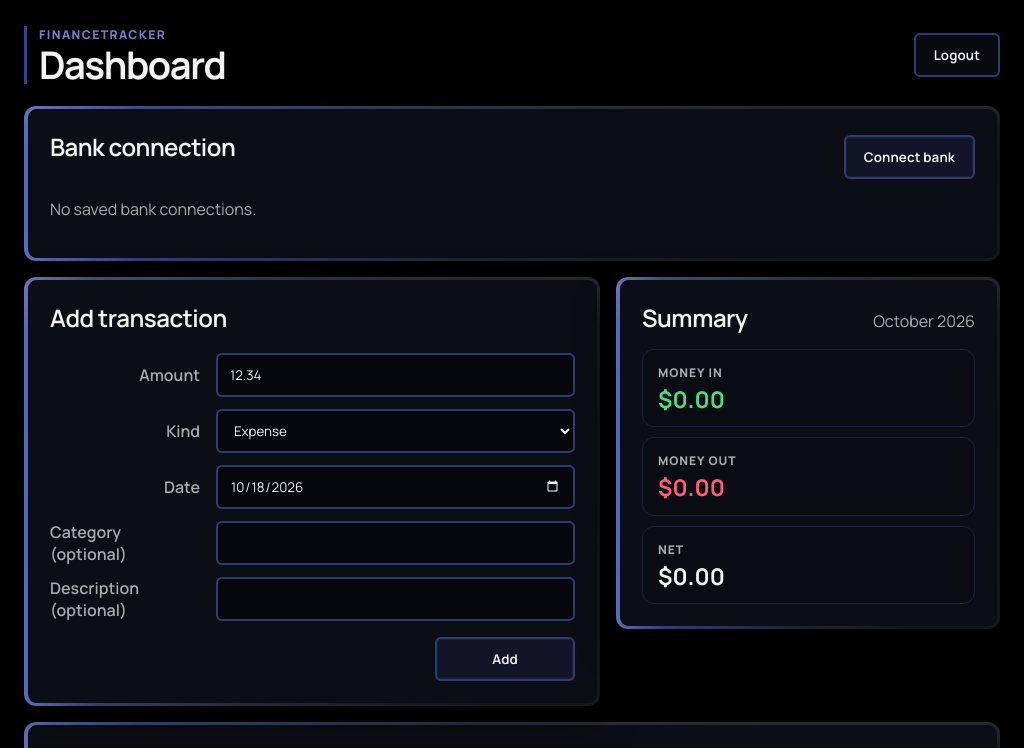
Scenario: dashboard request lifecycle › clears private search results and drafts before the next login
The image size is (1024, 748).
Type "Private transaction draft" into the field labelled "Description (optional)" at (396, 599), box [216,577,575,621]
(page scrolled)
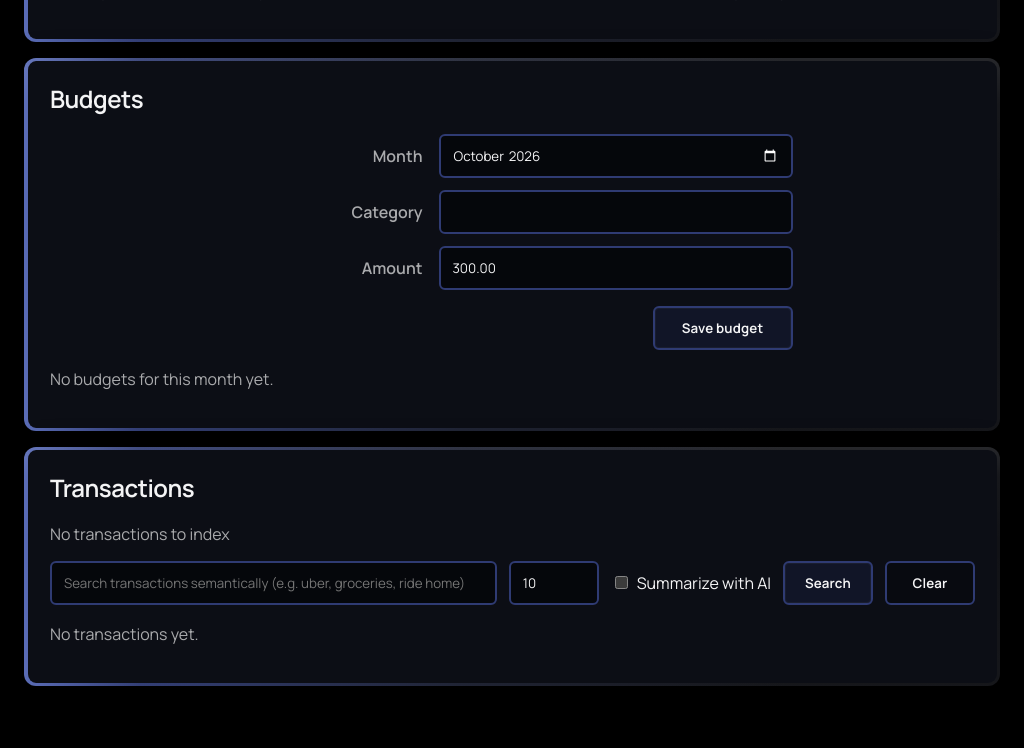
Type "private query" into the field named "Semantic search query" at (273, 583), box [50,561,497,605]
Click the button "Search" at (828, 583), box [783,561,873,605]
(page scrolled)
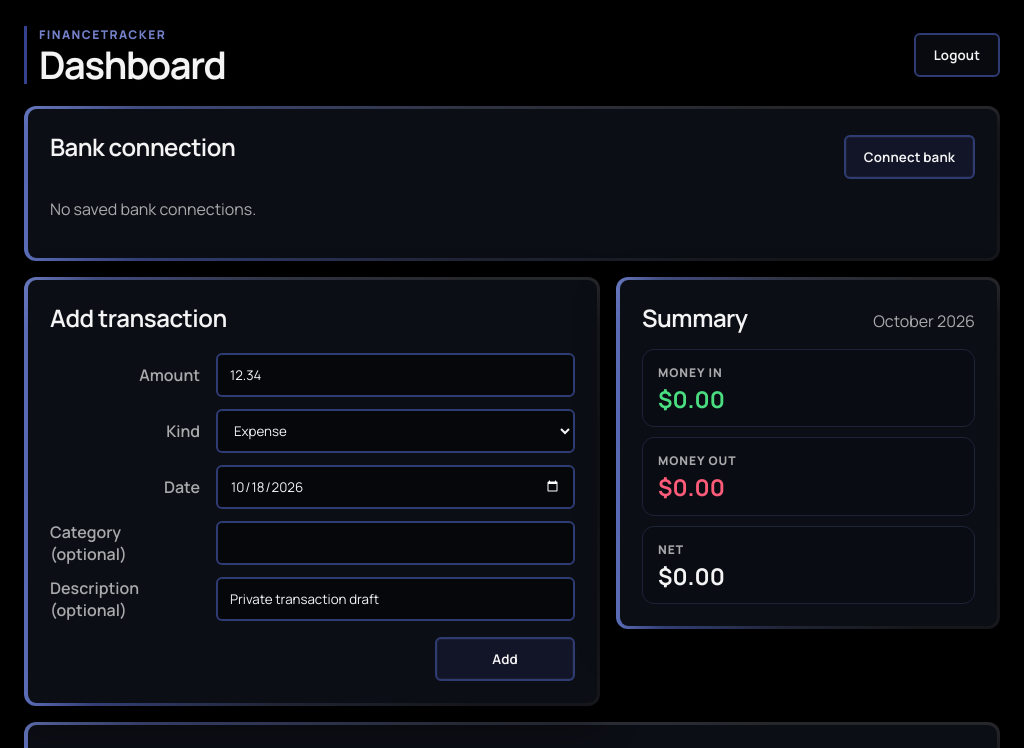
Click the button "Logout" at (957, 55), box [914,33,1000,77]
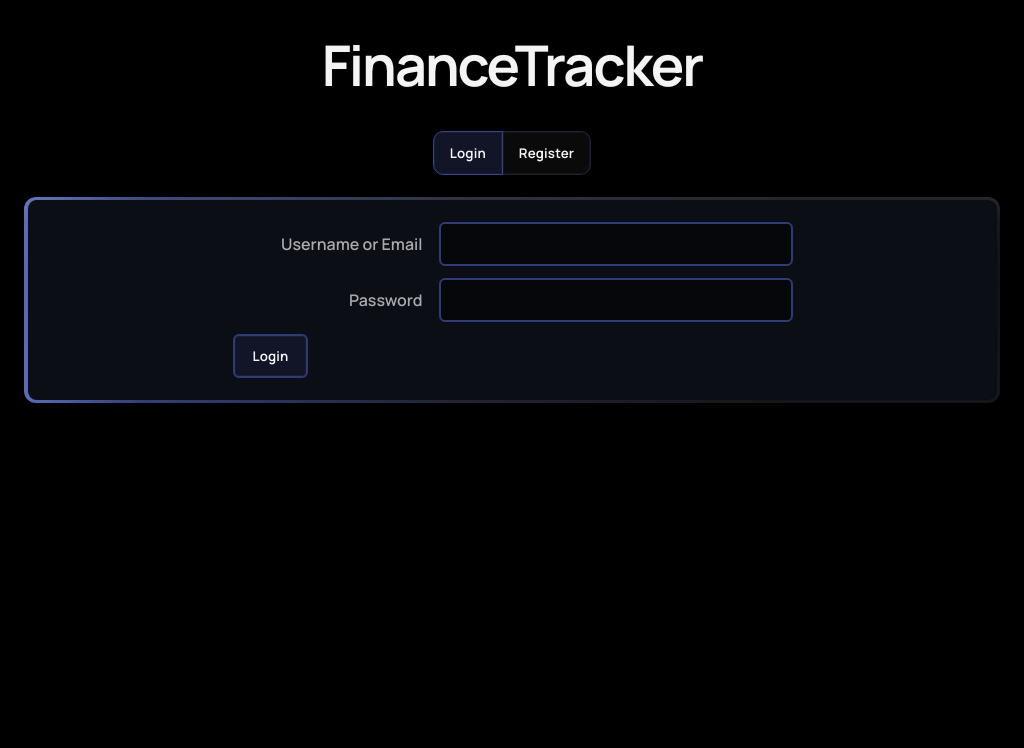
Type "next-user" into the field labelled "Username or Email" at (616, 244), box [438,222,792,266]
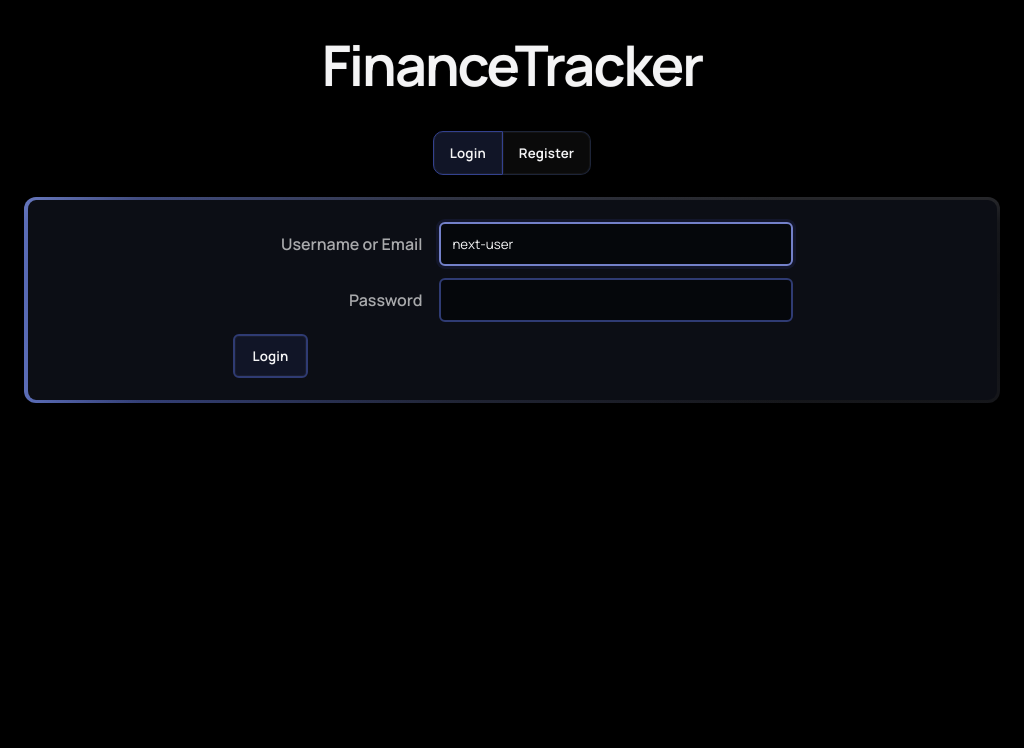
Type "password" into the password field labelled "Password" at (616, 300), box [438,278,792,322]
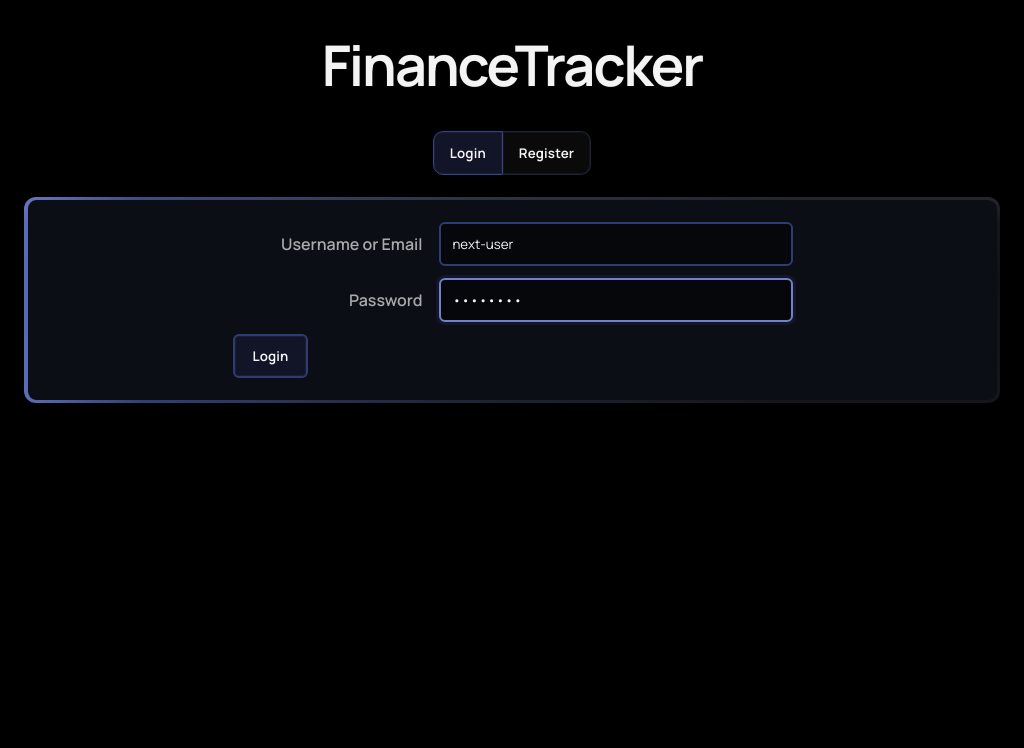
Click the button "Login" below "Password" at (270, 356), box [232,334,308,378]
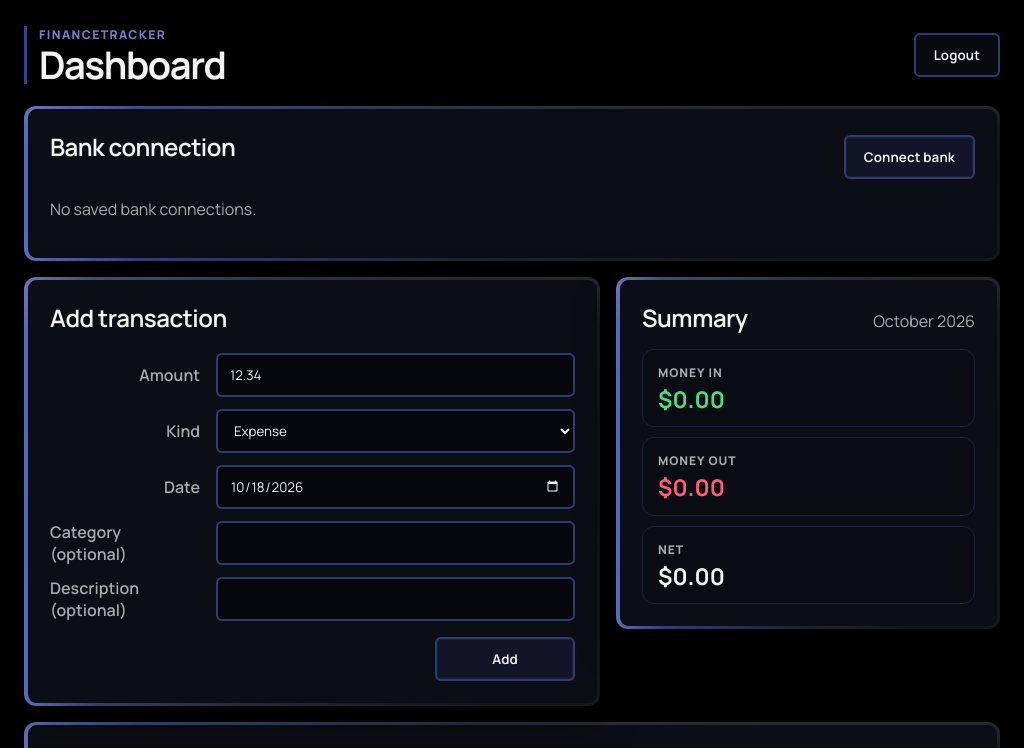
Expected: the field labelled "Description (optional)" is empty, [216,577,575,621]
Now the heading "Dashboard" is shown, box [39,46,226,84]
